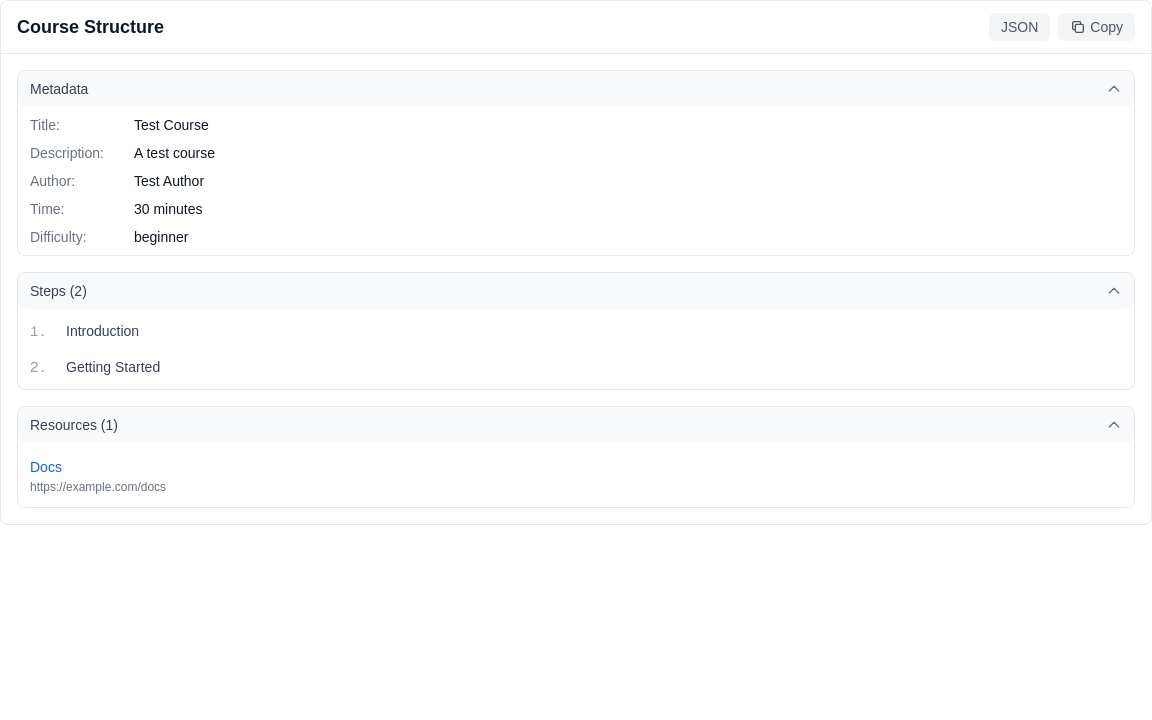
Test: CourseJSONViewer › JSON Preview › should show raw JSON when toggled
Click the button "JSON" at (1020, 27), box top-left (989, 13), bottom-right (1050, 41)
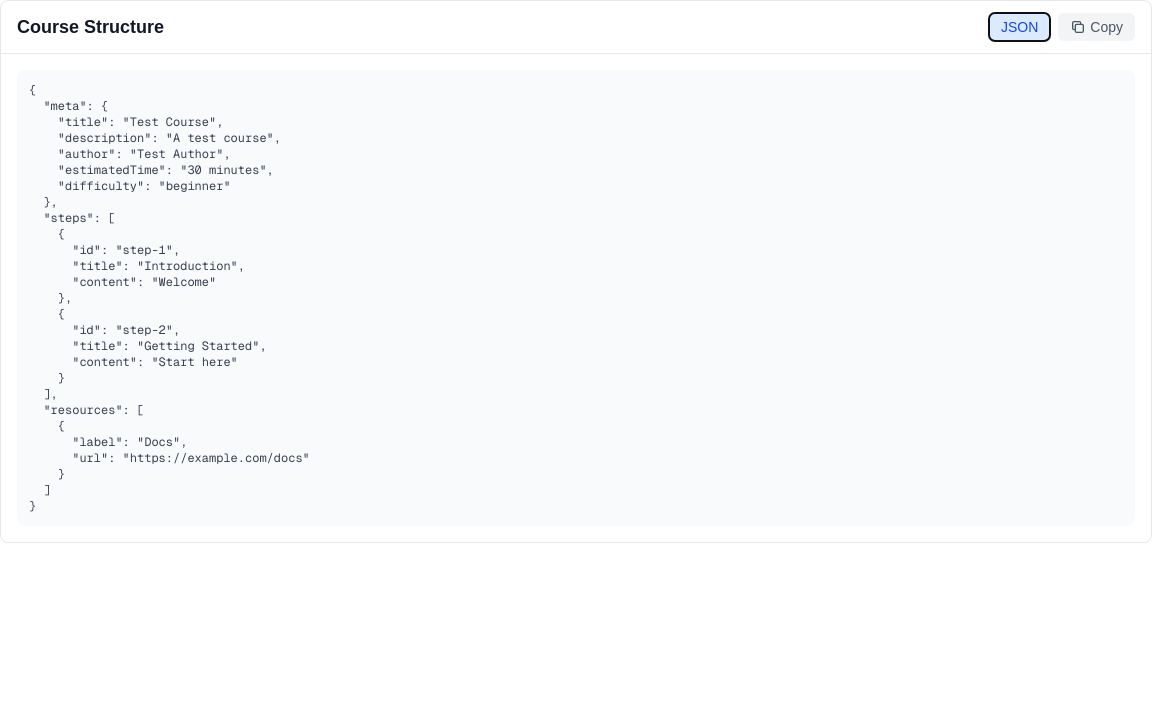
Now the text "\"title\": \"Test Course\"" is shown, box top-left (29, 82), bottom-right (310, 514)
